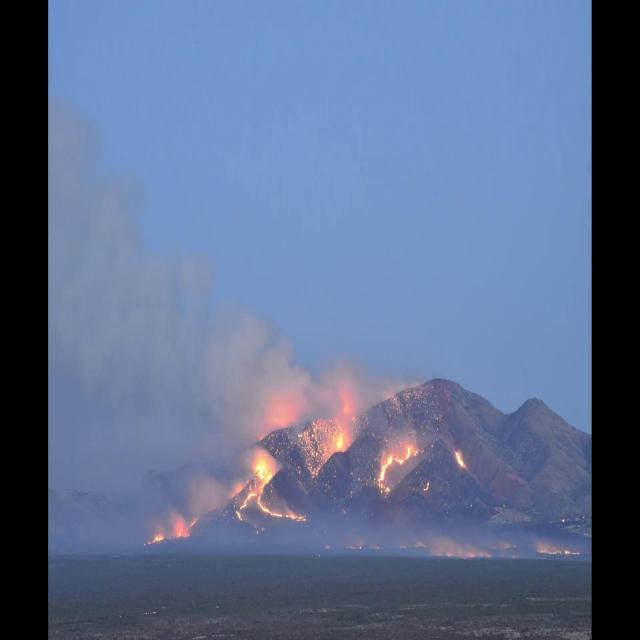Fire: (270, 410, 337, 478), (258, 488, 304, 521), (376, 453, 393, 495), (394, 444, 418, 463), (256, 466, 272, 486), (455, 449, 469, 469), (240, 492, 256, 509), (539, 547, 561, 556), (149, 534, 164, 544), (336, 434, 344, 451), (177, 528, 188, 538), (566, 550, 580, 556), (235, 510, 241, 520), (190, 518, 196, 528), (424, 482, 430, 491), (469, 551, 474, 558)
